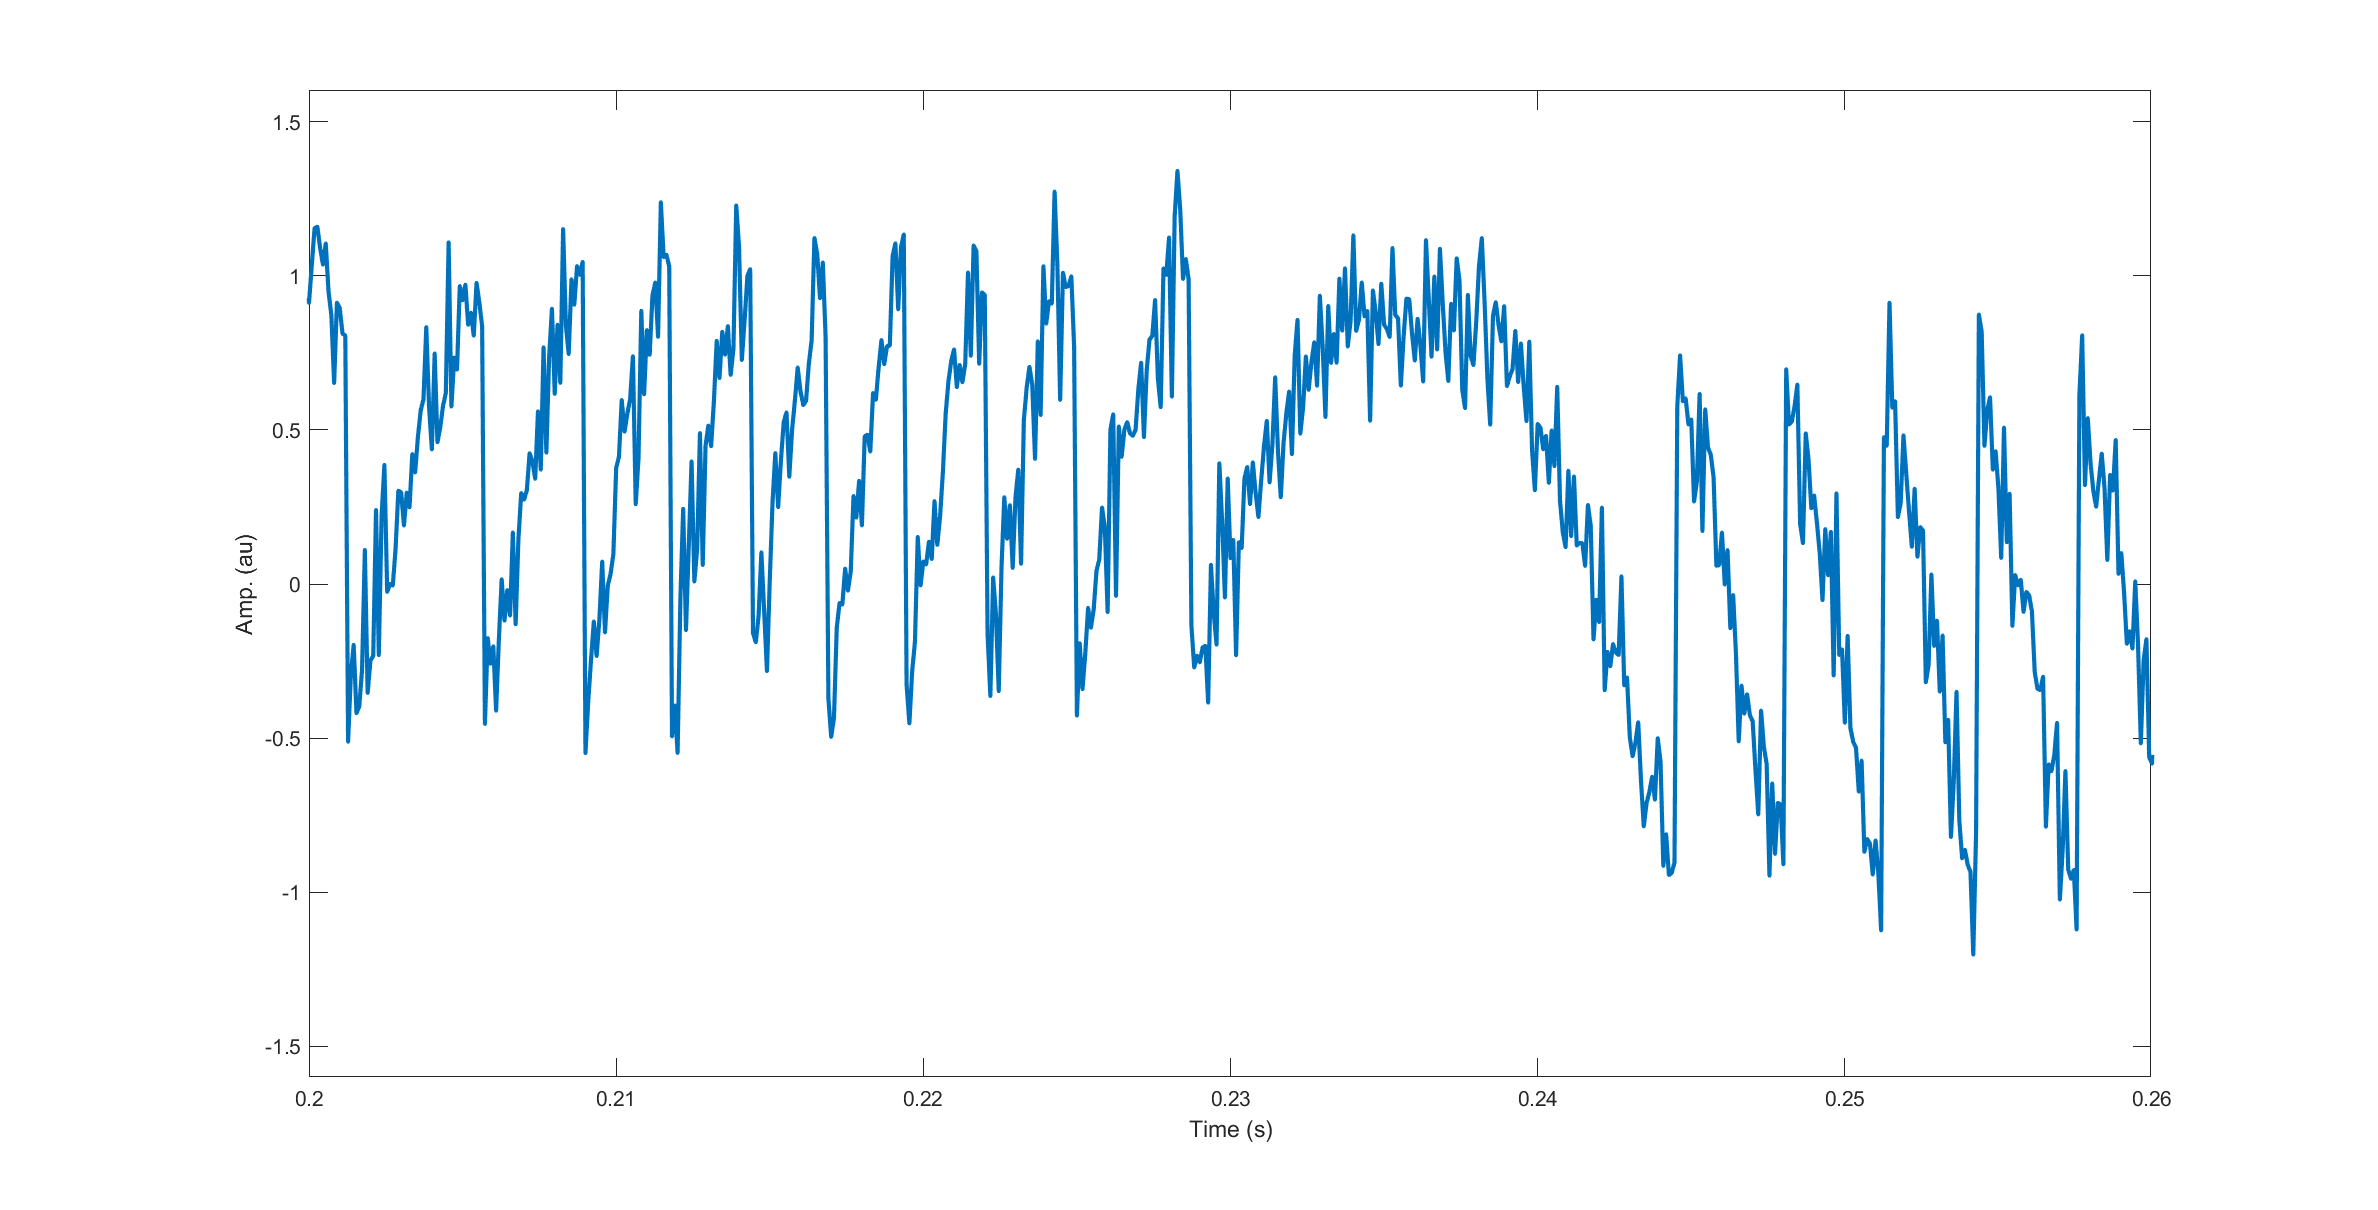negative_fringe: (1963, 306, 2055, 960), (1657, 340, 1765, 892), (1870, 289, 1958, 945), (1775, 355, 1869, 891), (2069, 315, 2128, 901)
positive_fringe: (361, 224, 497, 711), (1100, 147, 1201, 708), (506, 218, 597, 762), (1008, 170, 1093, 702), (600, 196, 681, 755), (765, 230, 843, 752), (687, 196, 762, 704), (918, 232, 995, 701), (847, 224, 917, 732)
